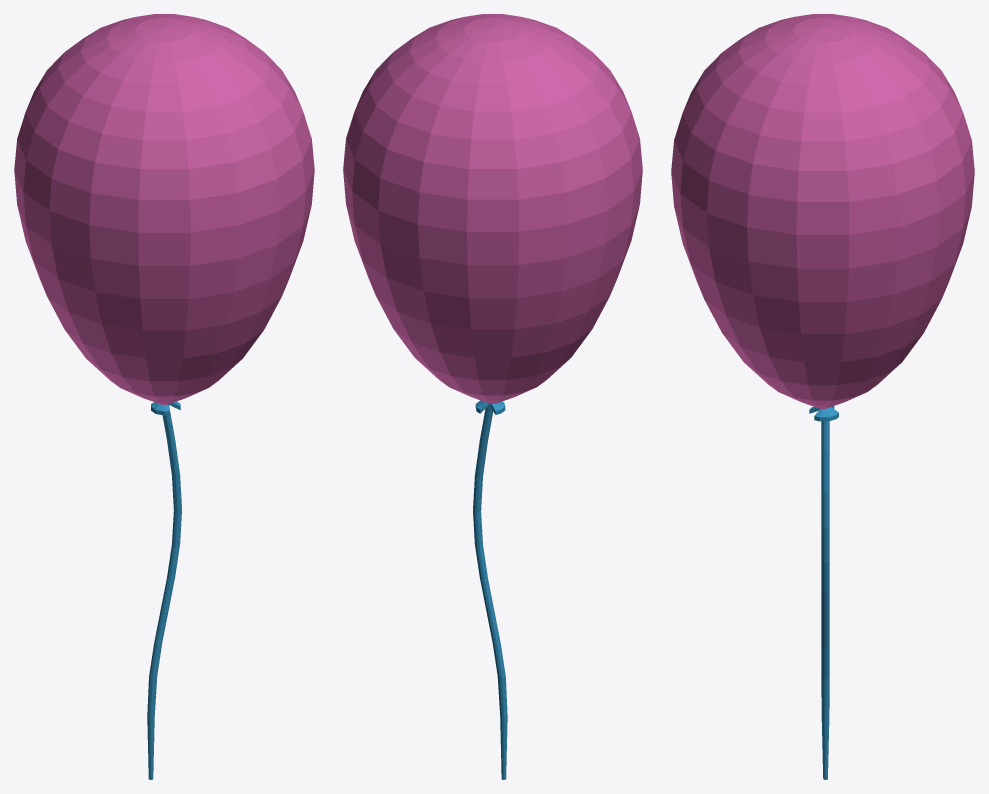
Rendered from Ballon.fbx.
3 renders of one model, left to right at view 1: azimuth 30°, elevation 25°; view 2: azimuth 150°, elevation 25°; view 3: azimuth 270°, elevation 25°, orthographic.
Parts seen in each view (by area): view 1: Ballon; view 2: Ballon; view 3: Ballon.
Boxes of the visible parts, x1=… form: Ballon: x1=14, y1=14, x2=314, y2=779; Ballon: x1=343, y1=14, x2=642, y2=779; Ballon: x1=671, y1=14, x2=974, y2=779.
Size of the model in its own units: 305 by 851 by 309.
